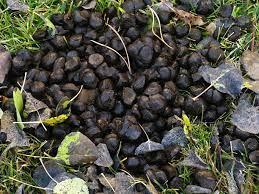Elk: (21, 18, 228, 158)
